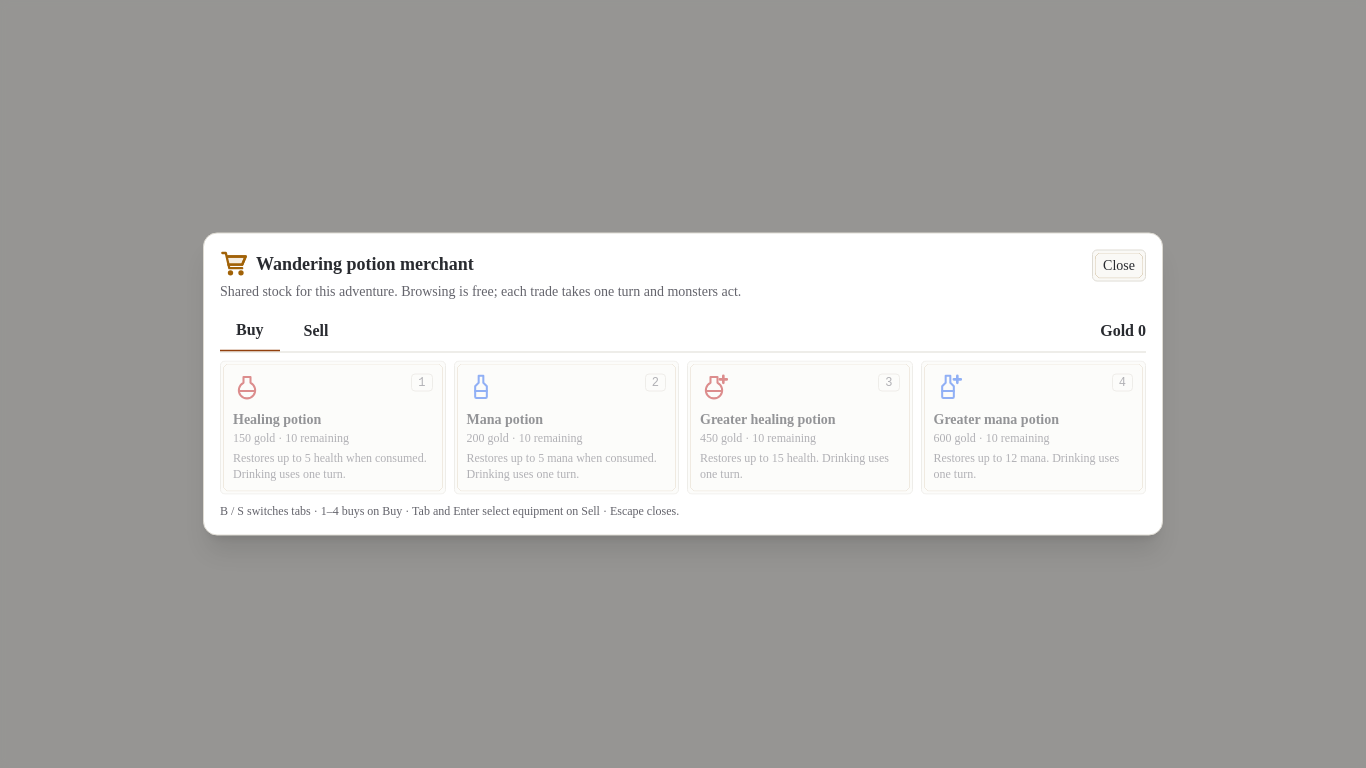
Equipment decisions at the merchant › quotes Lower sales, cancels freely and needs a deliberate confirmation
Click the tab "Sell". click: (316, 330)
box: top-left (288, 310), bottom-right (344, 350)
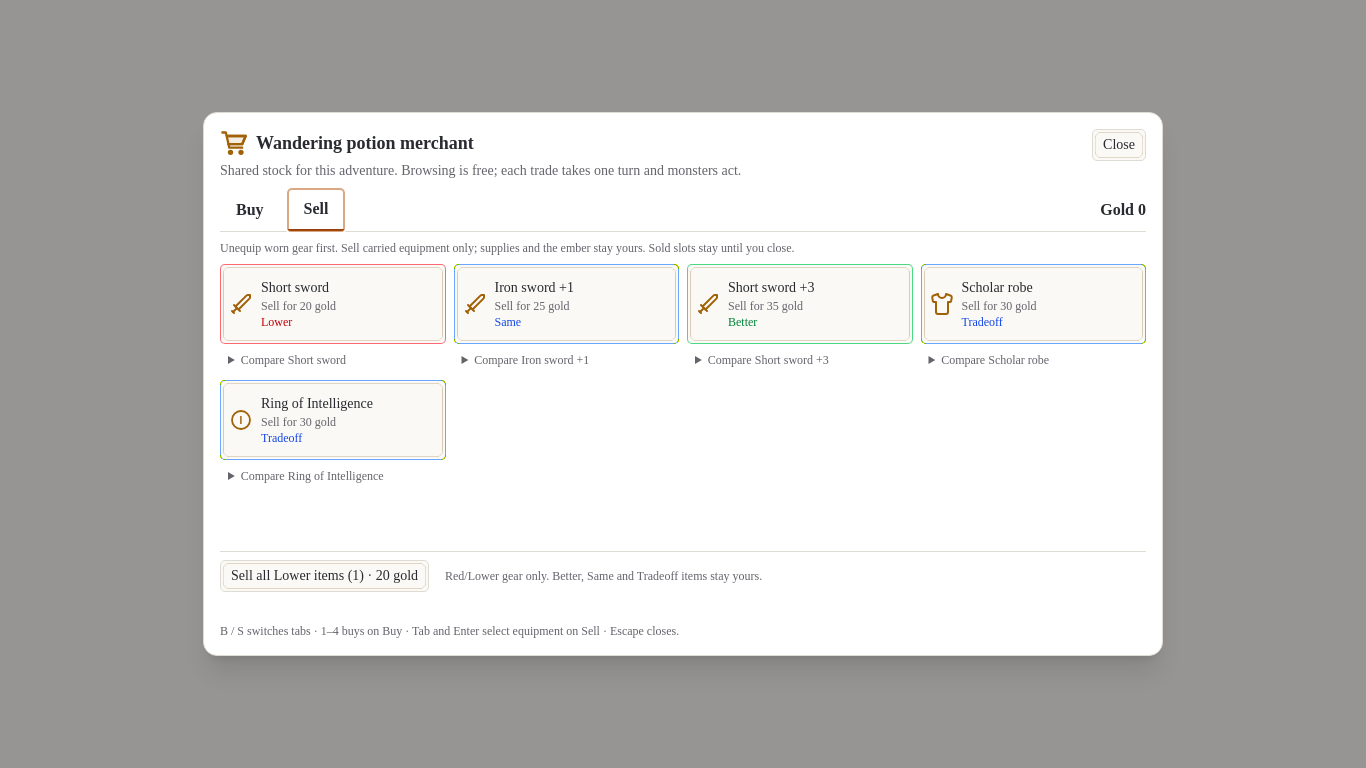
Click the button "Sell all Lower items (1) · 20 gold". click: (324, 576)
box: top-left (220, 560), bottom-right (429, 592)
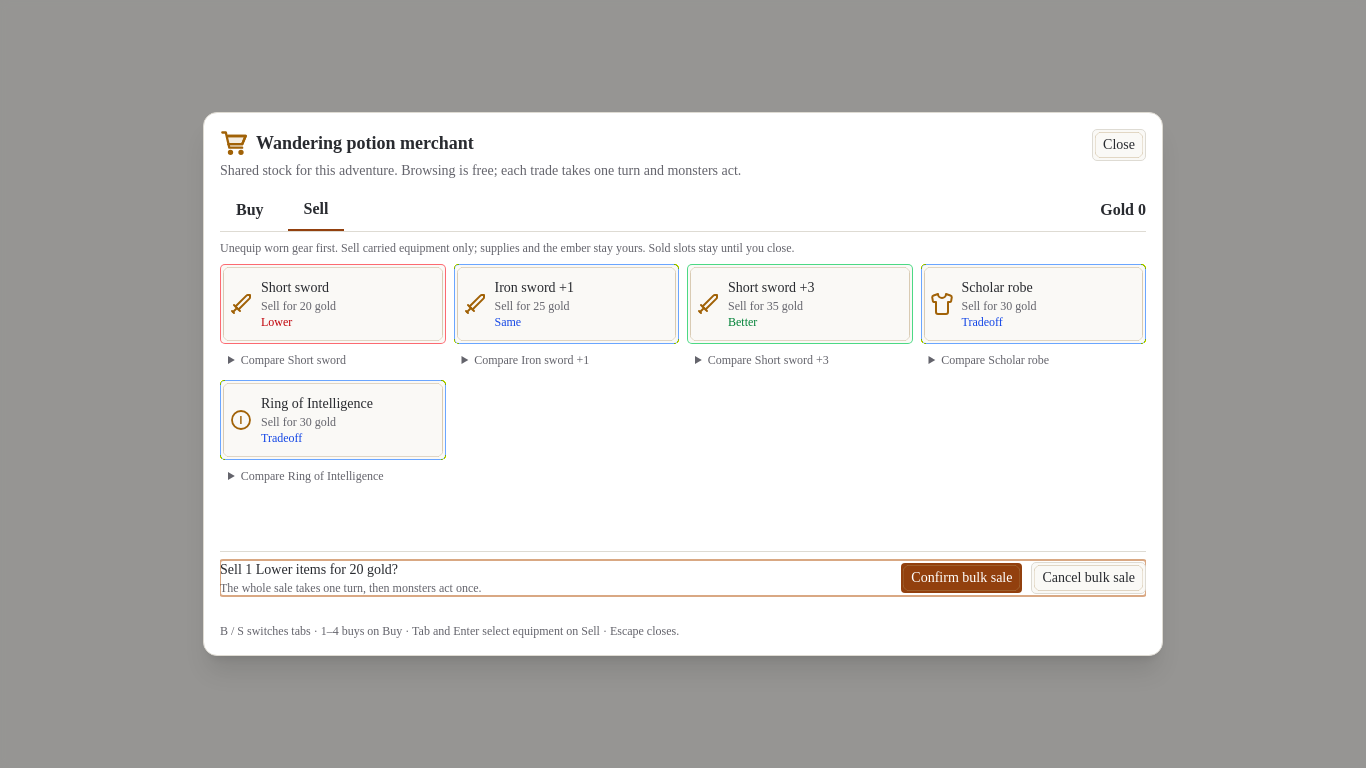
Expected: the element named "Confirm Lower equipment sale" shows "whole sale takes one turn", top-left (220, 581), bottom-right (482, 595)
Click the button "Cancel bulk sale". click: (1089, 578)
box: top-left (1032, 562), bottom-right (1146, 594)
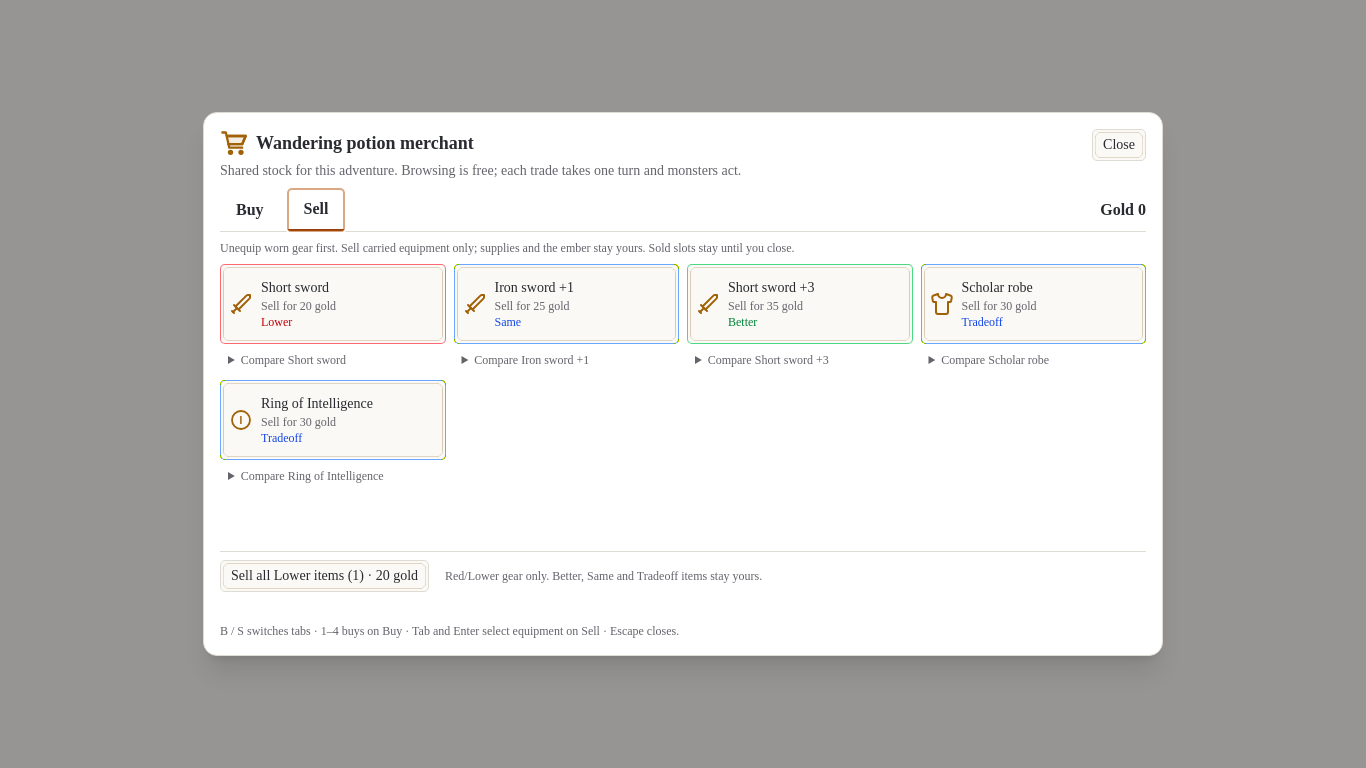
Click the button "Sell all Lower items (1) · 20 gold". click: (324, 576)
box: top-left (220, 560), bottom-right (429, 592)
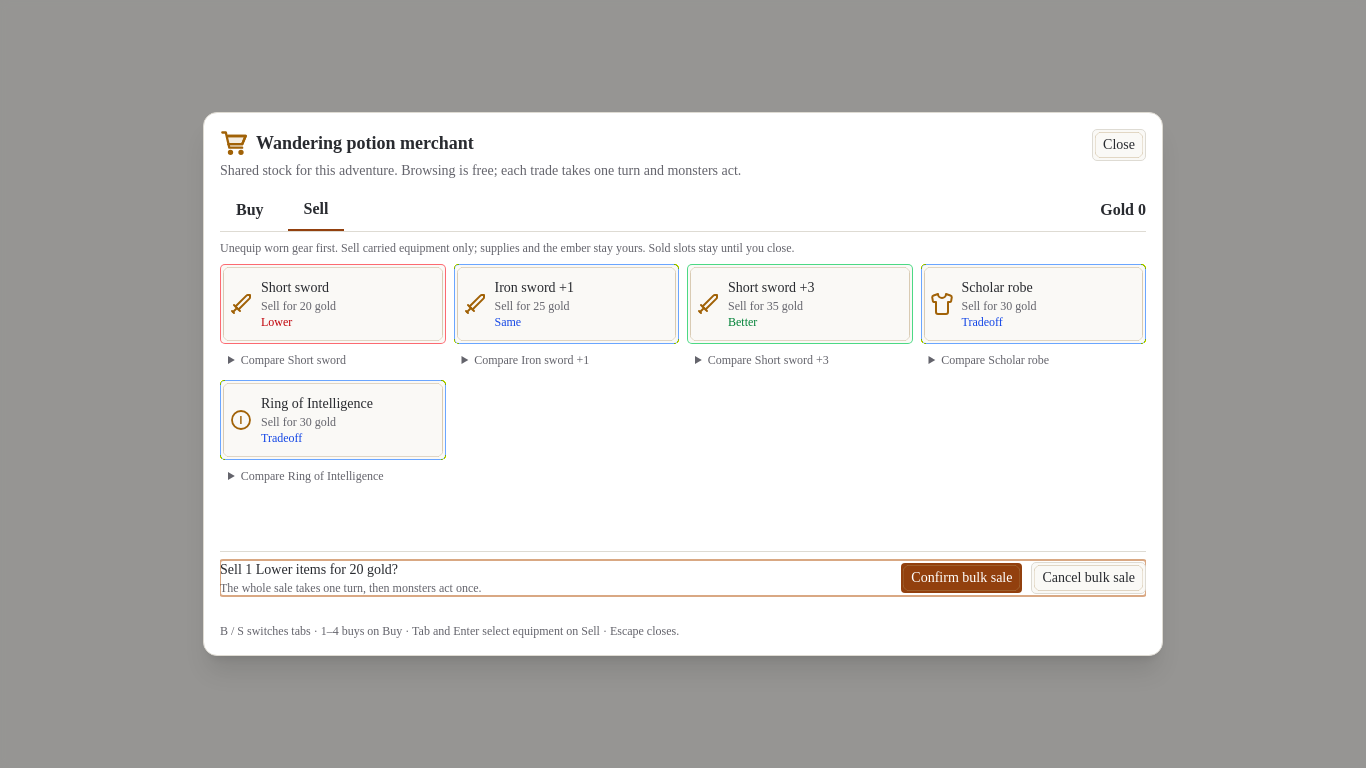
Click the button "Confirm bulk sale". click: (962, 578)
box: top-left (900, 562), bottom-right (1024, 594)
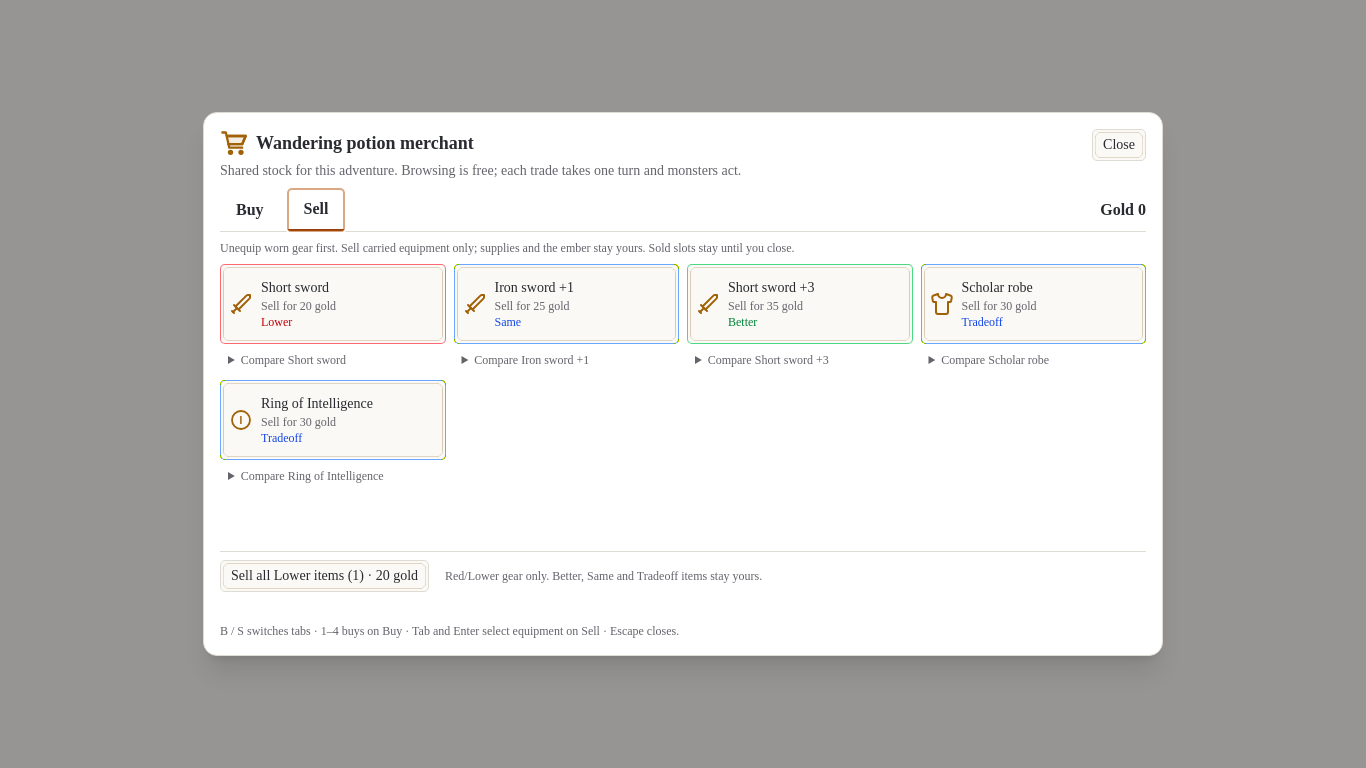
Expected: the button "Confirm bulk sale" is gone
